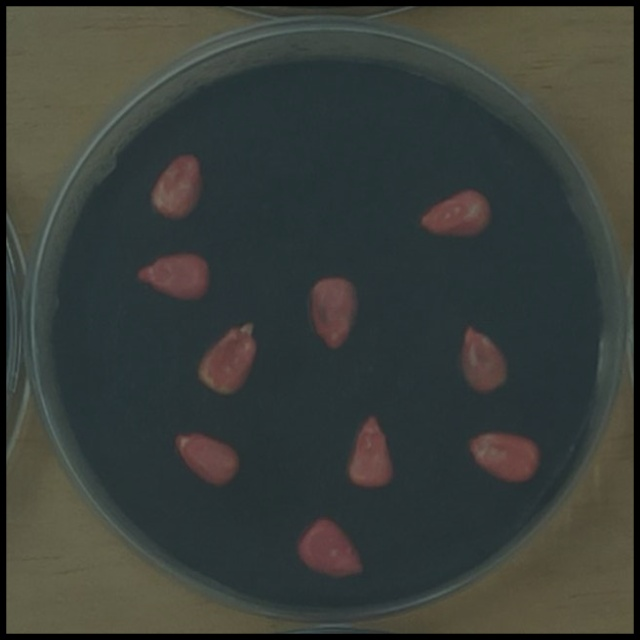Zea mays: (188, 314, 265, 403), (289, 510, 370, 587), (164, 424, 248, 497), (299, 268, 366, 359), (128, 243, 220, 309), (141, 145, 213, 229), (336, 407, 402, 498), (459, 425, 548, 490), (451, 316, 517, 403), (413, 182, 499, 246)
